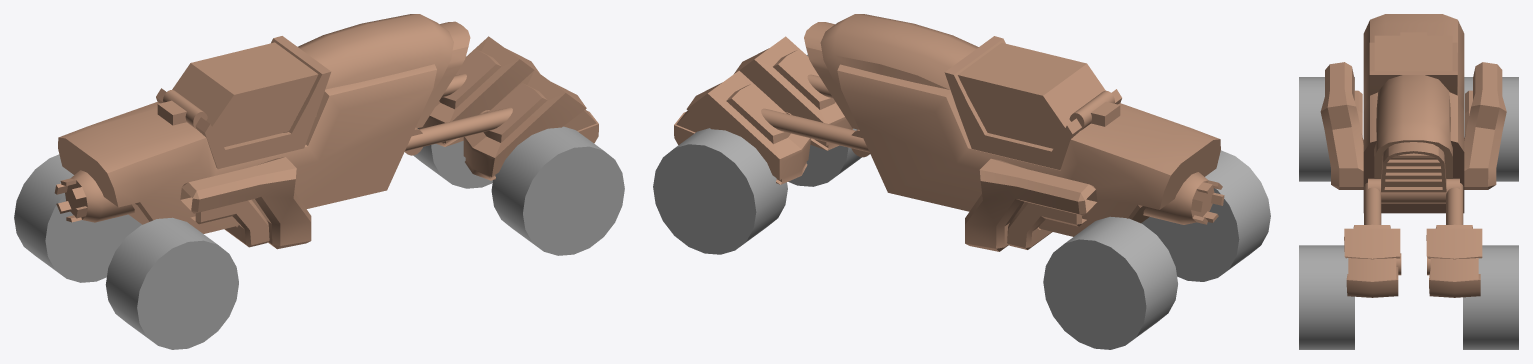
Rendered from nave1.fbx.
The picture shows the model from 3 angles, left to right: view 1: azimuth 30°, elevation 25°; view 2: azimuth 150°, elevation 25°; view 3: azimuth 270°, elevation 25°; orthographic projection. The views are drawn at different scales.
Visible parts, largest first — view 1: pCube27, pCylinder13, pCylinder12, pCylinder14, pCylinder11; view 2: pCube27, pCylinder14, pCylinder11, pCylinder13, pCylinder12; view 3: pCube27, pCylinder12, pCylinder11, pCylinder13, pCylinder14.
Part boxes in pixels (x1,y1,x2,y2): pCube27: (54,14,598,249); pCylinder13: (105,217,238,349); pCylinder12: (491,126,624,255); pCylinder14: (14,154,142,282); pCylinder11: (413,128,492,188); pCube27: (674,14,1224,251); pCylinder14: (1043,216,1177,349); pCylinder11: (653,128,787,254); pCylinder13: (1141,150,1270,281); pCylinder12: (788,54,861,186); pCube27: (1320,14,1506,297); pCylinder12: (1299,245,1354,349); pCylinder11: (1463,245,1518,349); pCylinder13: (1299,77,1354,181); pCylinder14: (1464,77,1518,181).
Size of the model in its own units: 5.01 by 2.03 by 2.13.
